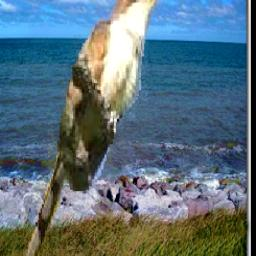Cuckoo: (21, 0, 172, 256)
